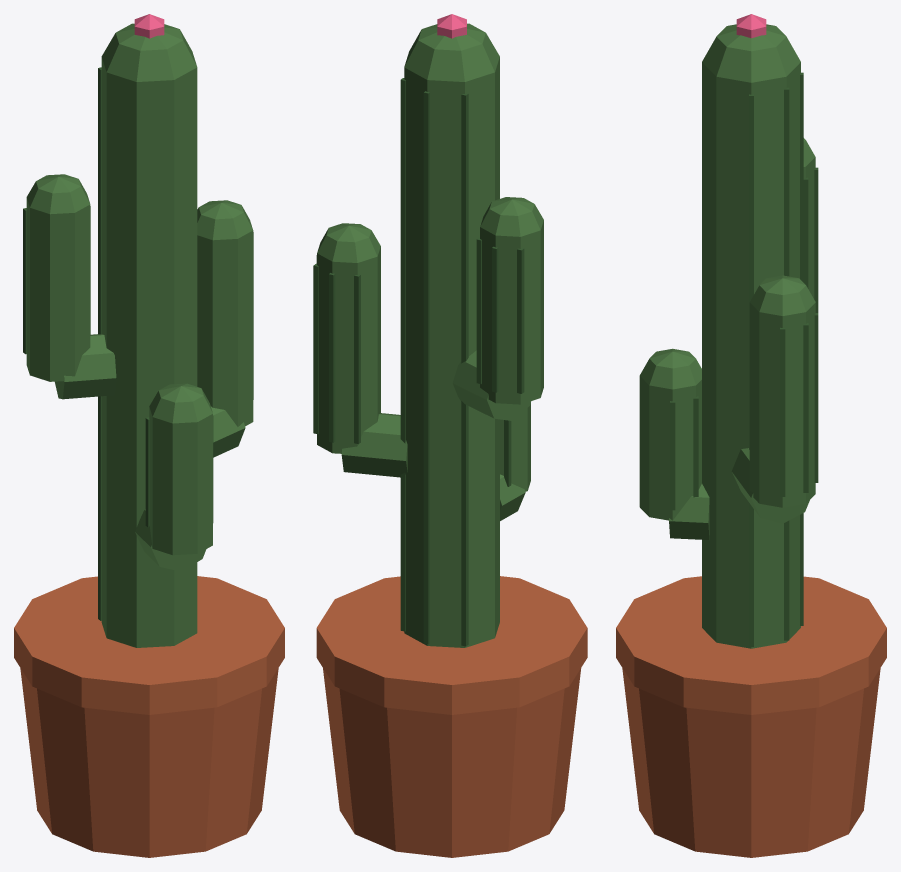
Rendered from plant_cactus.glb.
3 renders of one model, left to right at view 1: azimuth 30°, elevation 25°; view 2: azimuth 150°, elevation 25°; view 3: azimuth 270°, elevation 25°, orthographic.
Parts seen in each view (by area): view 1: Plant_cactus; view 2: Plant_cactus; view 3: Plant_cactus.
Part boxes in pixels (x1=…): Plant_cactus: x1=14, y1=14, x2=284, y2=857; Plant_cactus: x1=313, y1=14, x2=587, y2=857; Plant_cactus: x1=616, y1=14, x2=886, y2=857.
Size of the model in its own units: 0.4119 by 1.33 by 0.41.
